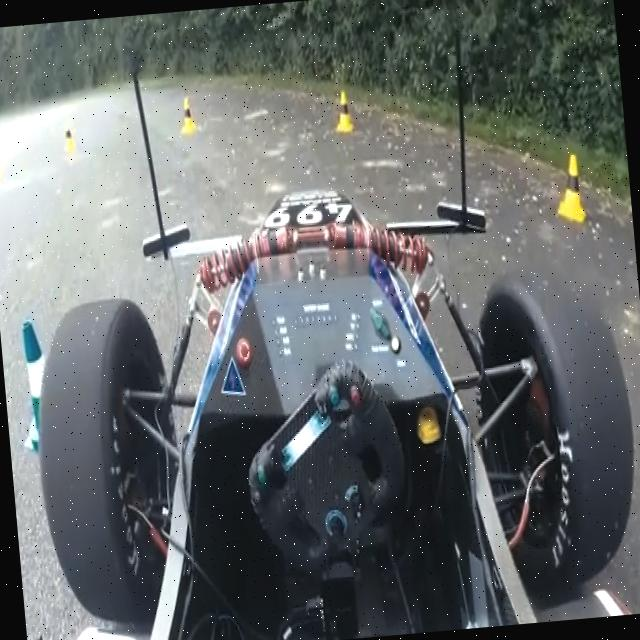blue_cone: (14, 314, 76, 464)
yellow_cone: (552, 153, 586, 224), (332, 89, 356, 132), (178, 95, 198, 135), (61, 122, 78, 154)
